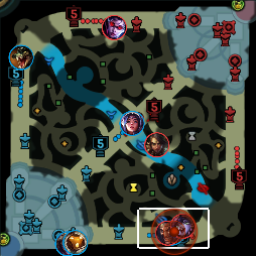bard: (64, 231, 87, 253)
draven: (155, 221, 178, 244)
ezreal: (54, 234, 76, 255)
irelia: (119, 111, 144, 134)
lulu: (171, 213, 195, 236)
nidalee: (145, 132, 169, 156)
renekton: (8, 45, 33, 70)
vayne: (101, 15, 126, 39)
